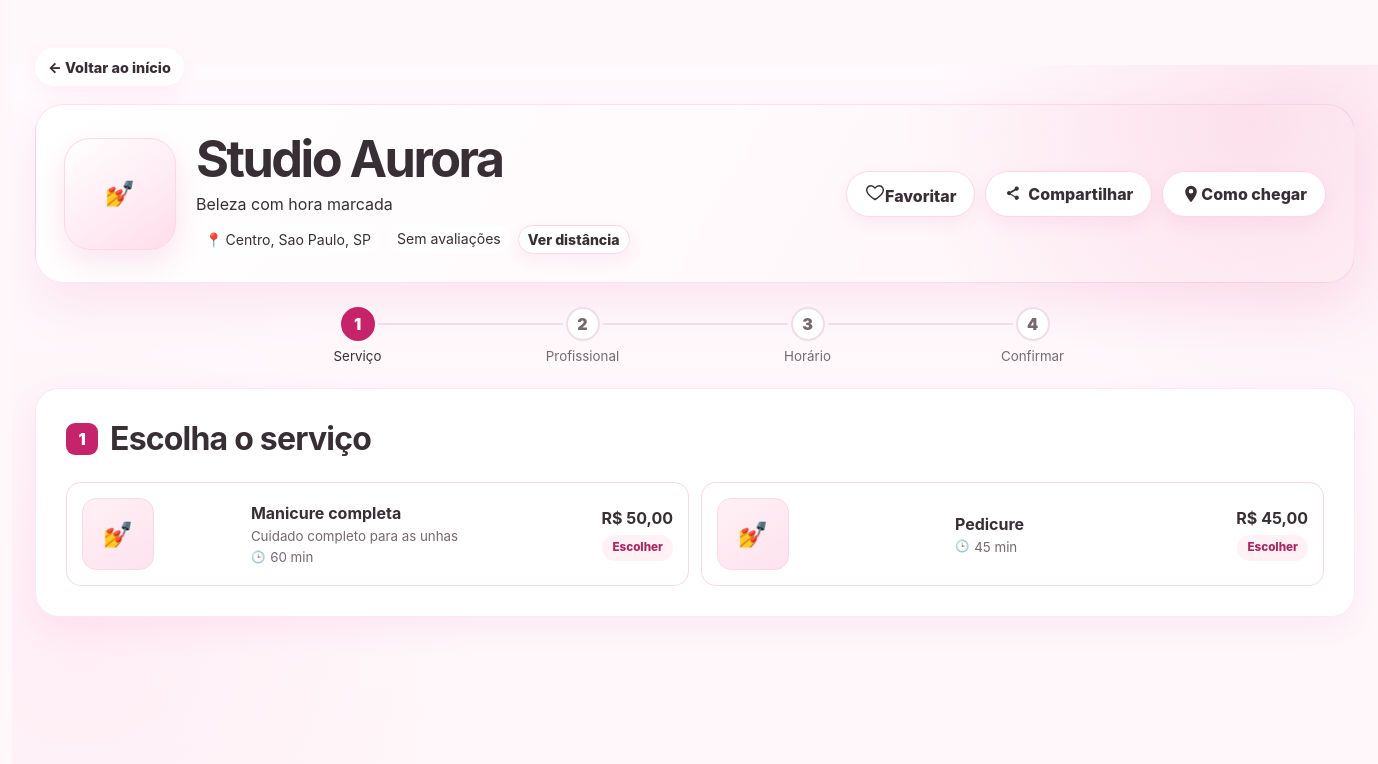
fluxo publico de agendamento › limpa profissional e horario ao trocar o servico
This screenshot has width=1378, height=764.
Click the button with aria-label "Selecionar Manicure completa": click(378, 534) [67,483,688,585]
(page scrolled)
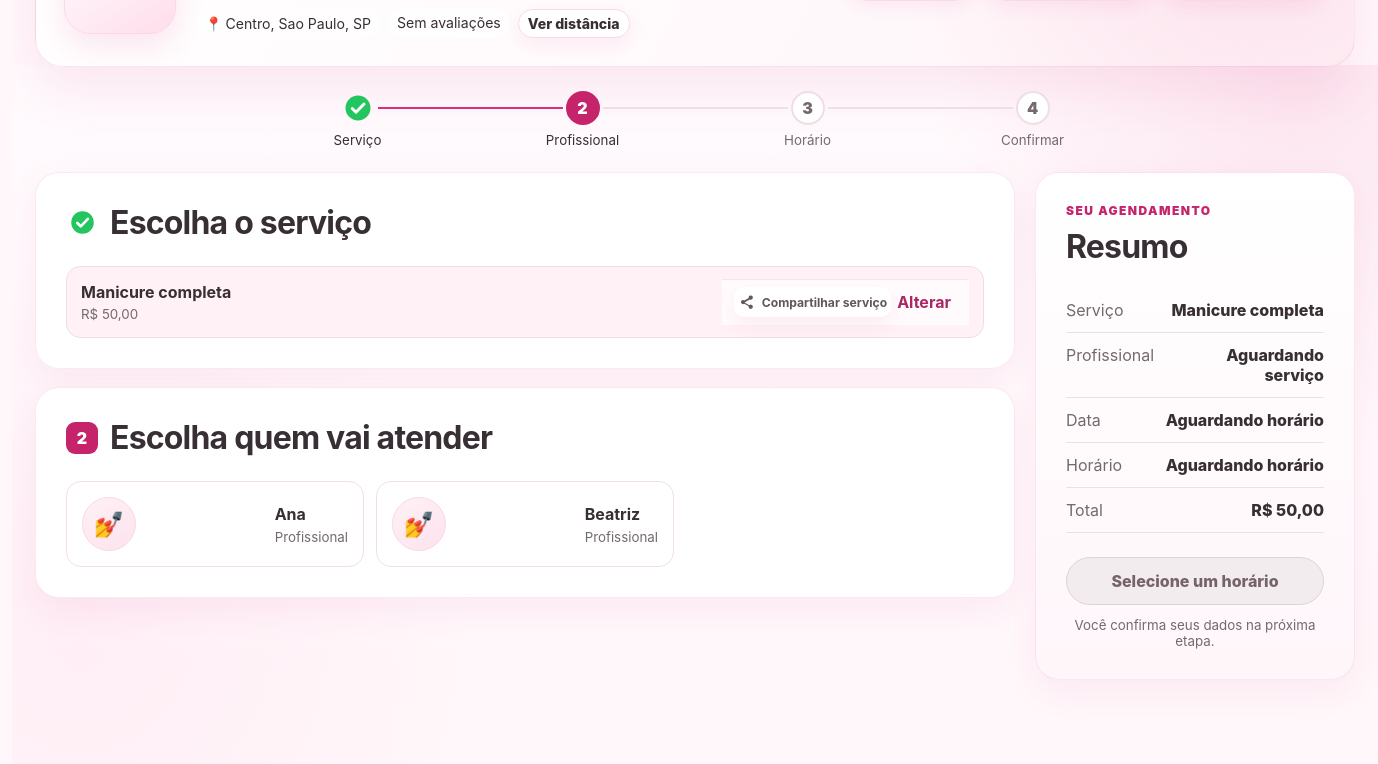
Click the button "💅 Ana Profissional": click(109, 524) [66,481,364,567]
(page scrolled)
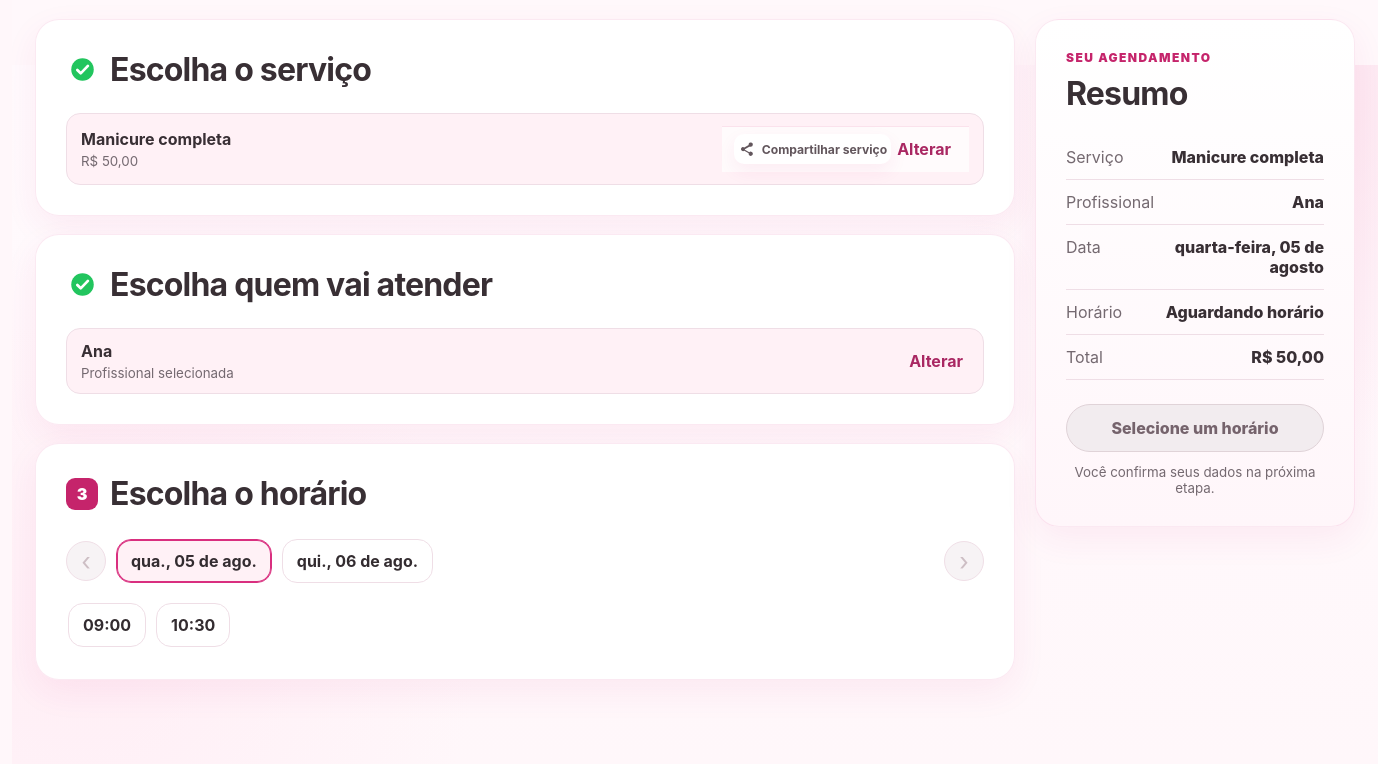
Click the button "09:00": click(107, 625) [68,603,146,647]
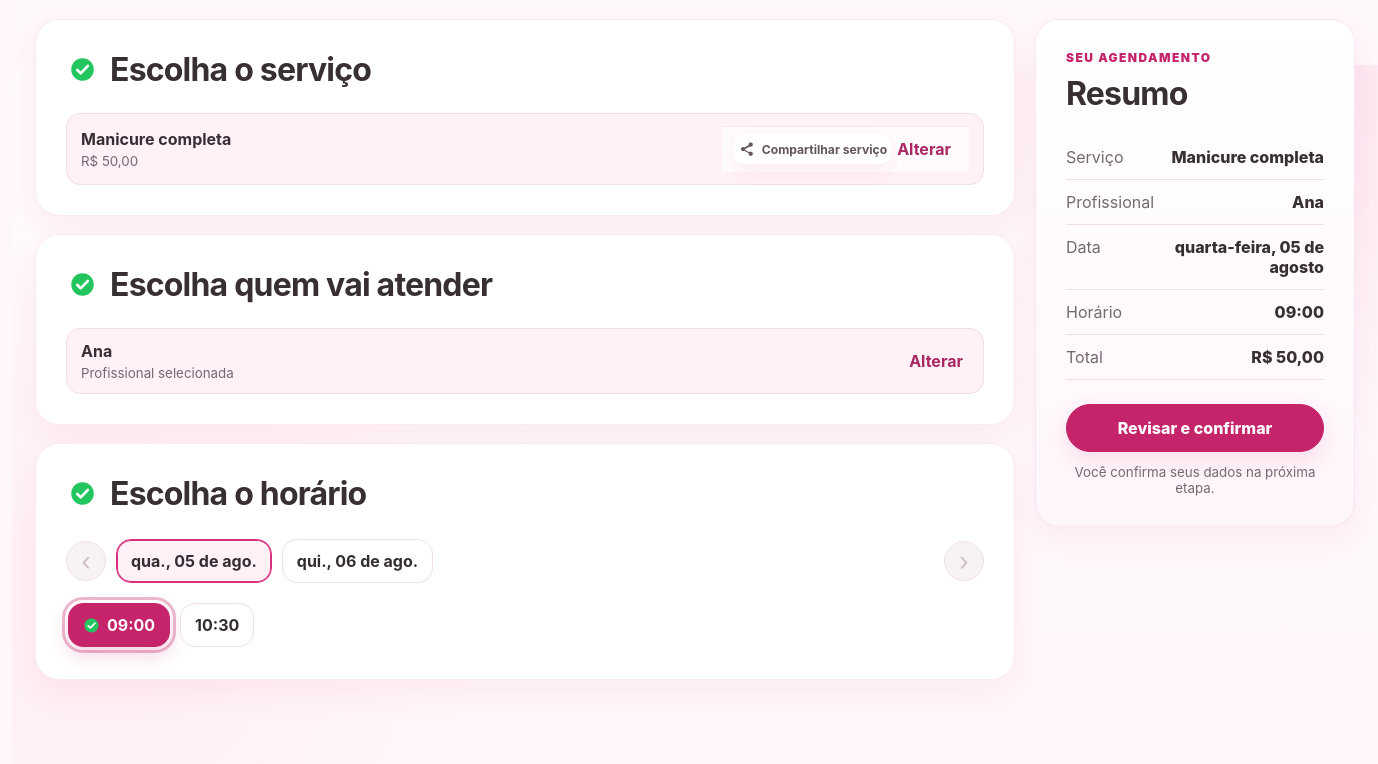
Check: the button "Revisar e confirmar" is enabled, box [1066,404,1324,452]
Click the 1st button "Alterar": click(924, 149) [891,134,957,164]
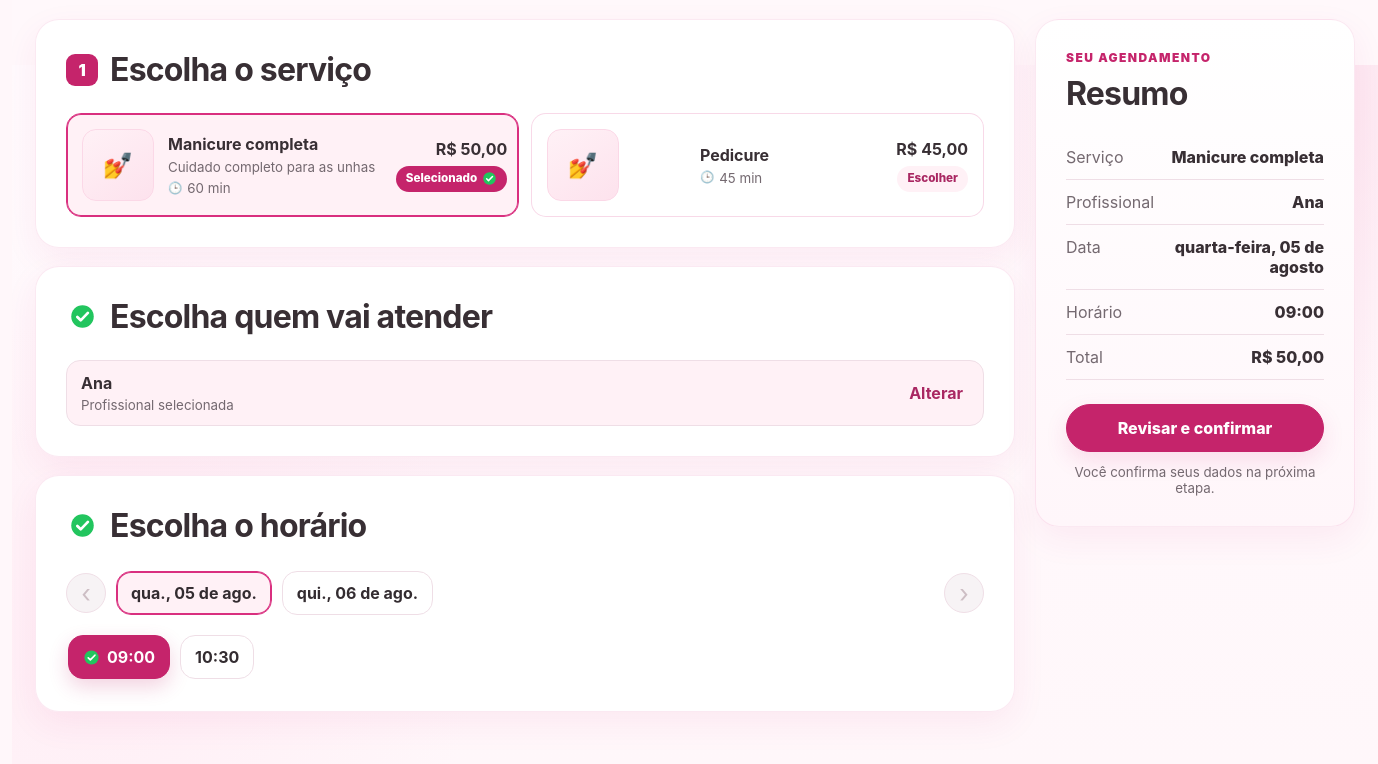
Click the button with aria-label "Selecionar Pedicure": click(758, 165) [532,114,983,216]
(page scrolled)
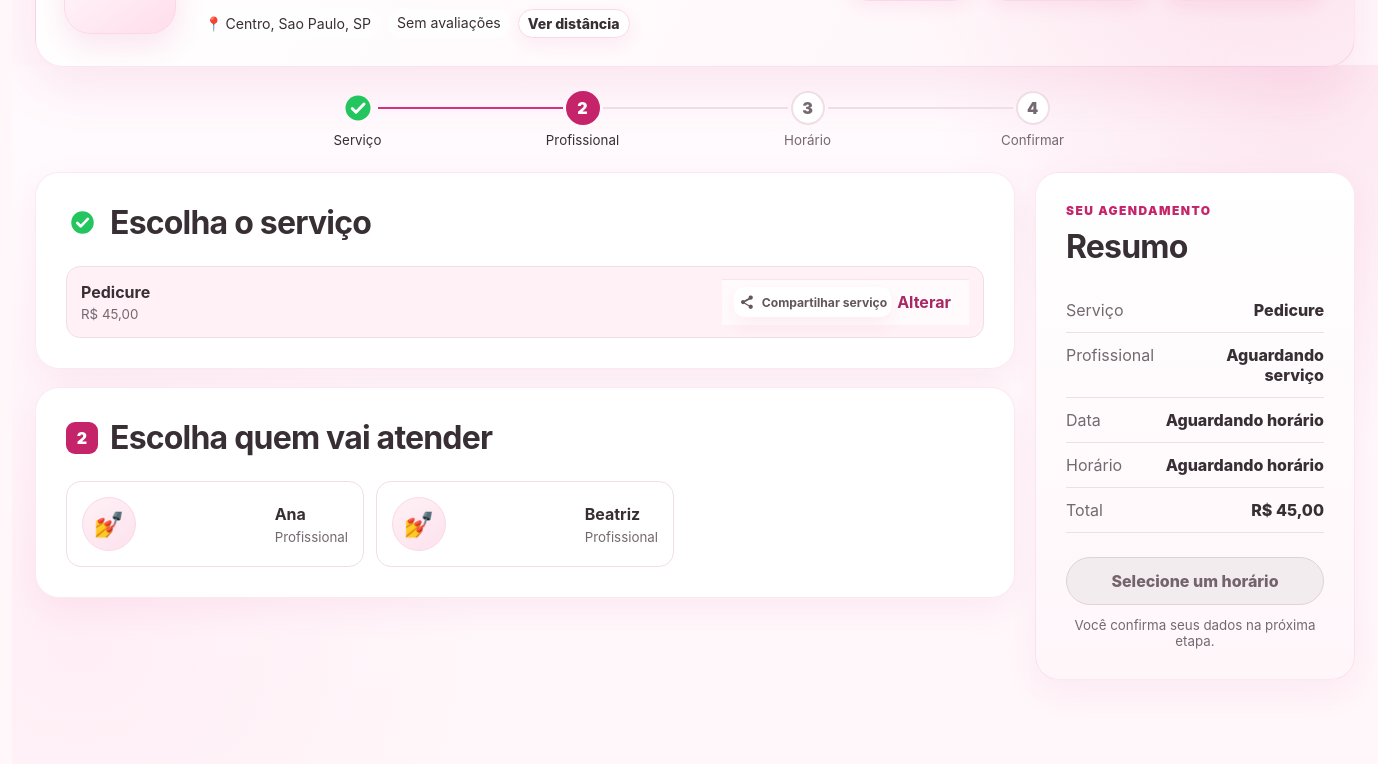
Check: the text "Aguardando serviço" is shown, box [1226,345,1324,385]
Check: the button "Selecione um horário" is disabled, box [1066,557,1324,605]
